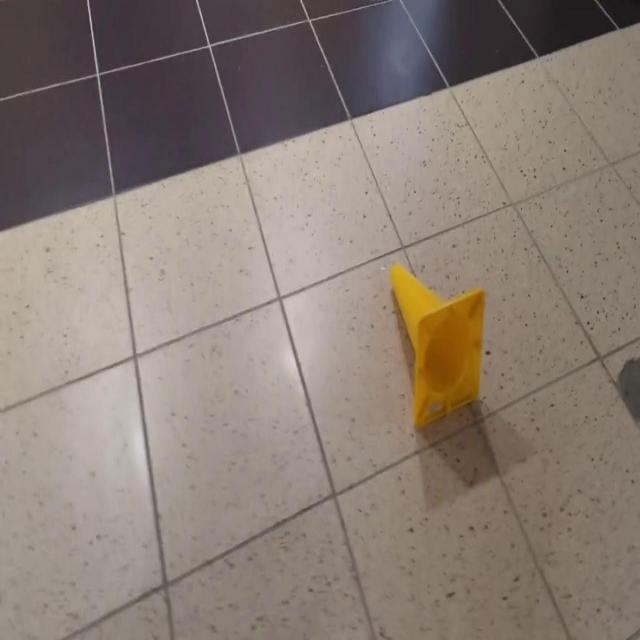frc_cone: (390, 261, 486, 431)
